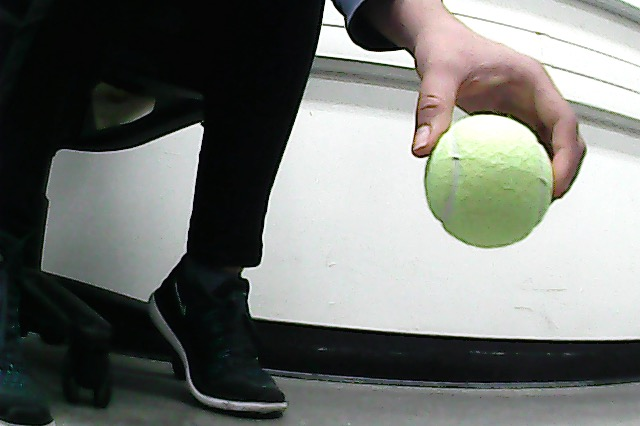ball: (426, 113, 554, 249)
